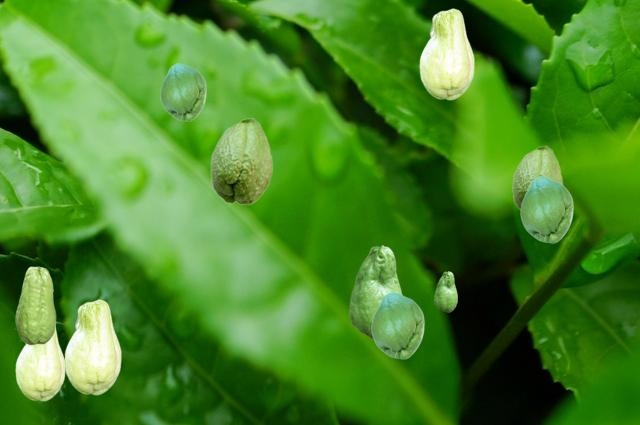sayote: (210, 117, 272, 204), (64, 299, 120, 394), (349, 245, 402, 339), (419, 8, 473, 99), (15, 327, 64, 400), (520, 176, 572, 242), (371, 292, 423, 358), (512, 145, 562, 210), (15, 266, 55, 344), (160, 63, 205, 120), (434, 271, 456, 311)
